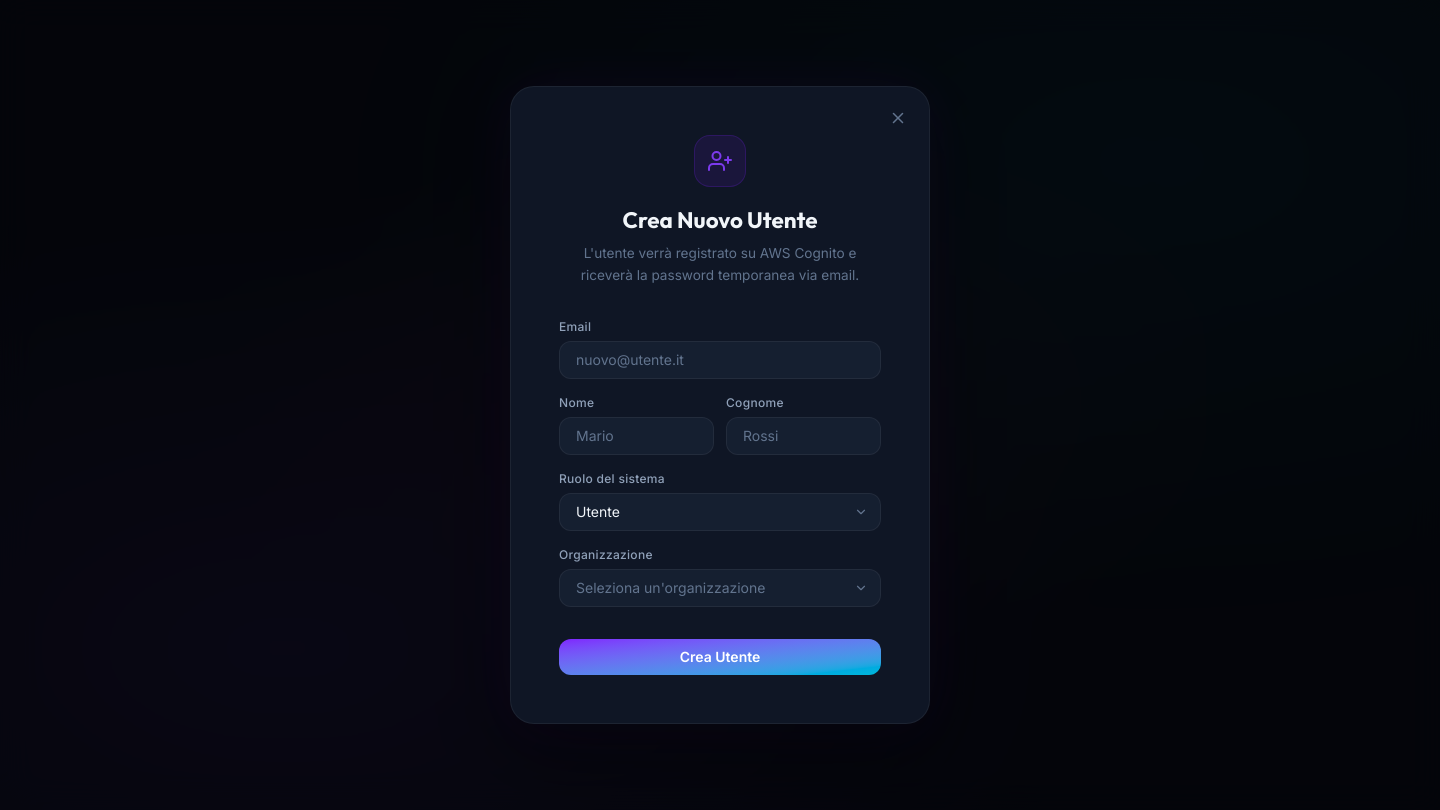
Scenario: UserCreateModal › nasconde il campo organizzazione quando il ruolo è super admin
Expected: the dropdown labelled "organizzazione" is shown, x1=559 y1=569 x2=881 y2=607
Click the dropdown named "Ruolo del sistema" at (598, 511), box x1=559 y1=493 x2=881 y2=531
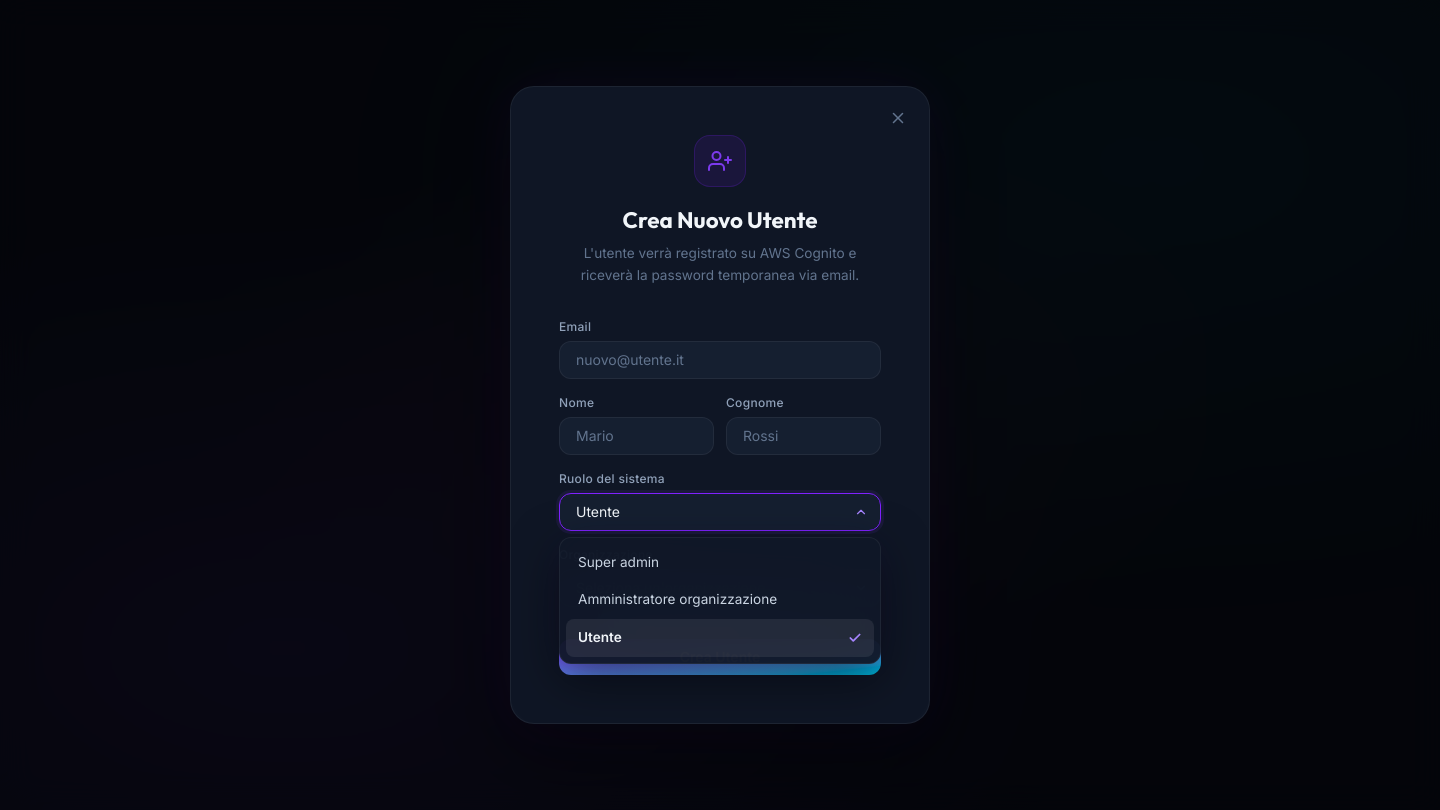
Click the option "Super admin" at (619, 562), box x1=578 y1=554 x2=659 y2=570
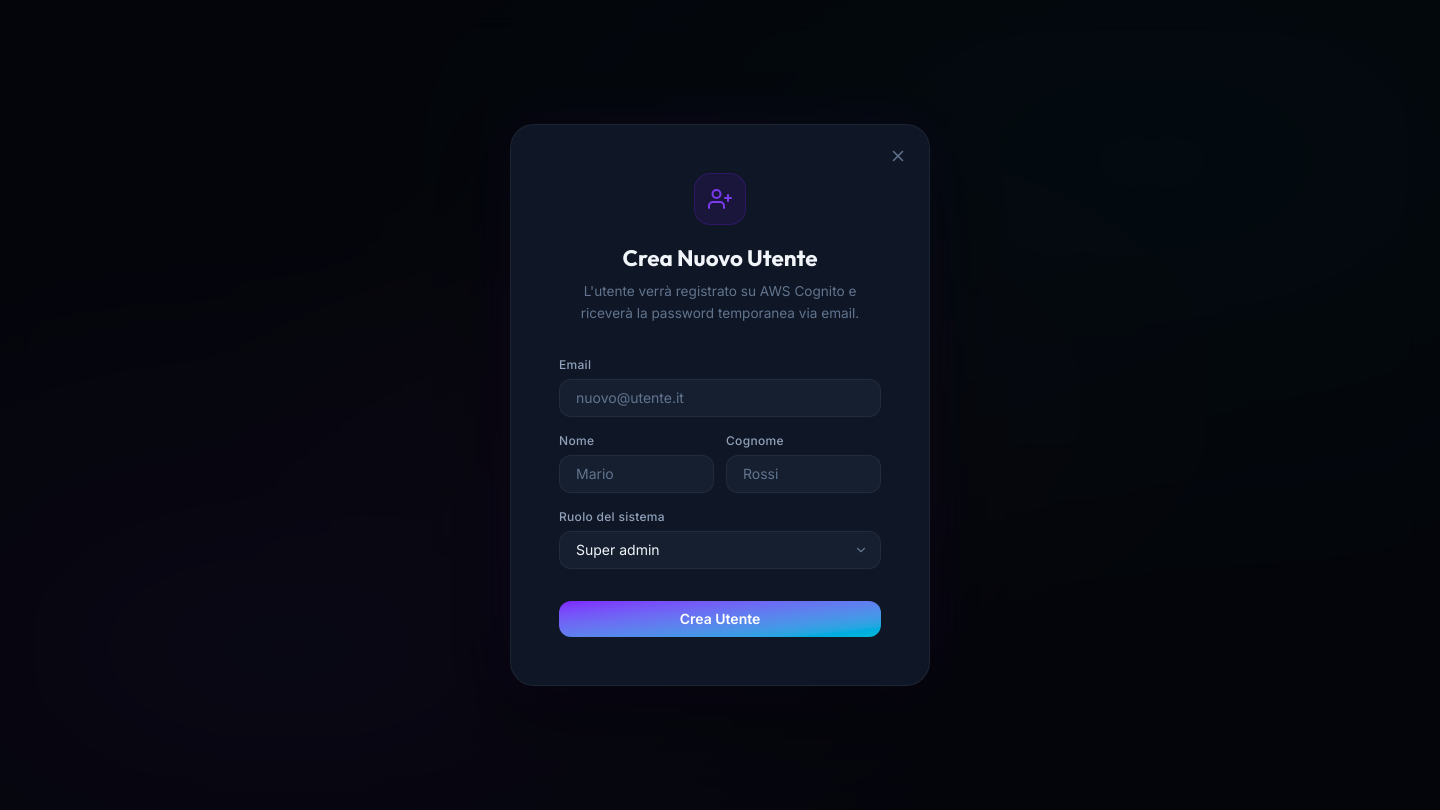
Result: the option "organizzazione" is gone
